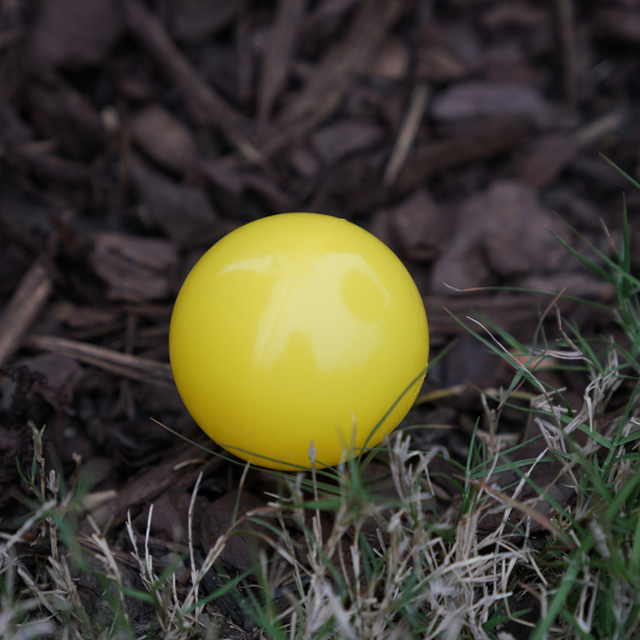Ball: (168, 208, 427, 464)
